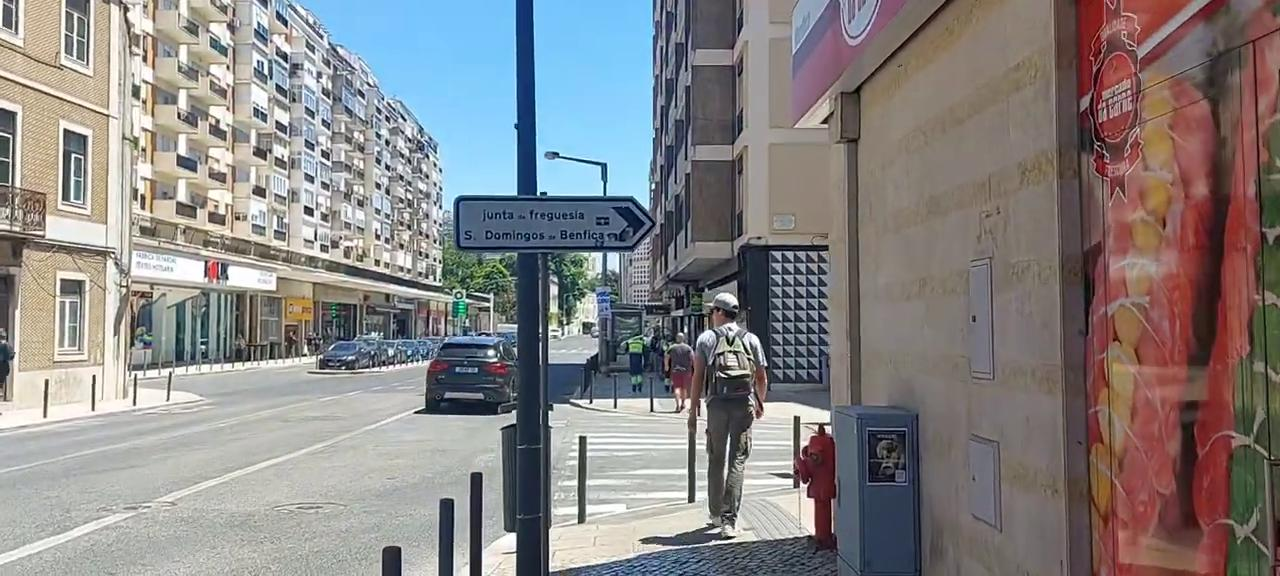direcao de via de acesso: (452, 195, 655, 257)
